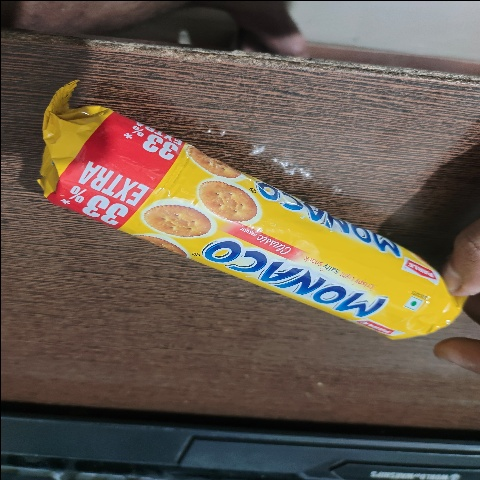monaco: (30, 70, 468, 352)
